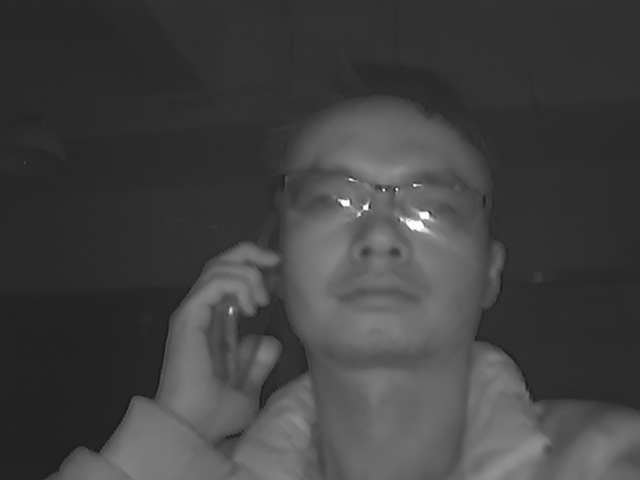hand: (152, 240, 281, 438)
